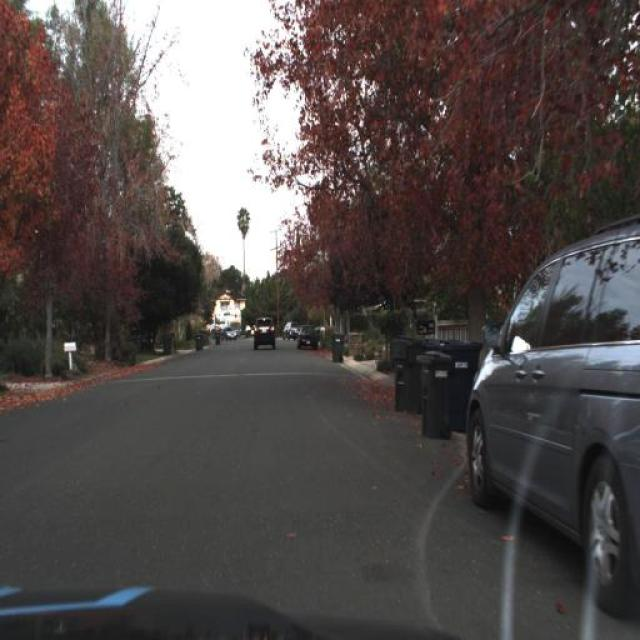car: (462, 218, 640, 620), (248, 313, 278, 352), (296, 322, 320, 357), (283, 322, 296, 337), (224, 326, 236, 340)
